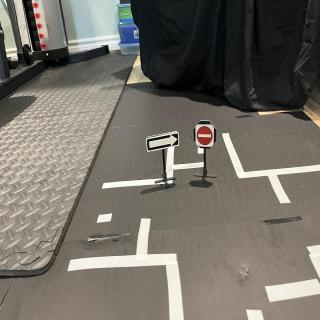sign_noentry: (196, 125, 216, 149)
sign_oneway_right: (146, 131, 181, 153)
